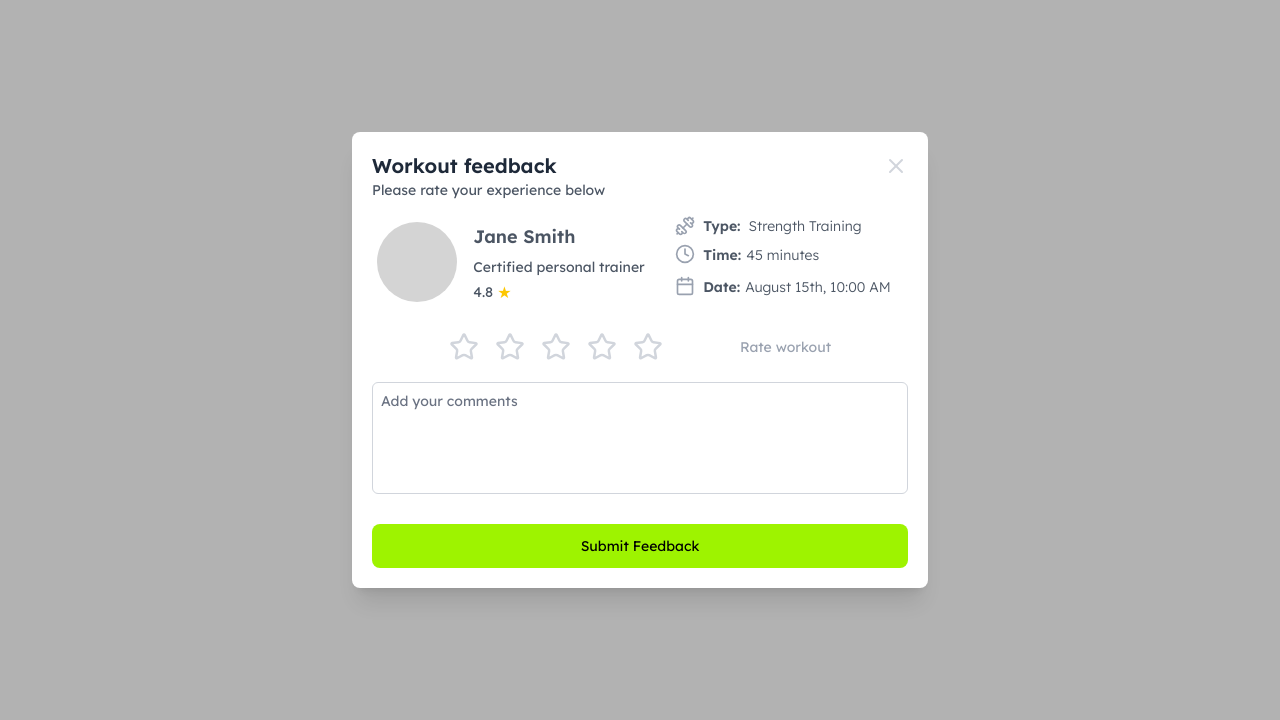
it: ClientFeedbackModal › updates rating when stars are clicked
Expected: the text "Rate workout" is shown, [740, 337, 831, 357]
Click on the 4-star rating (full star)
Click the element named "Rate 4 stars".
click(610, 347)  # box [602, 332, 617, 362]
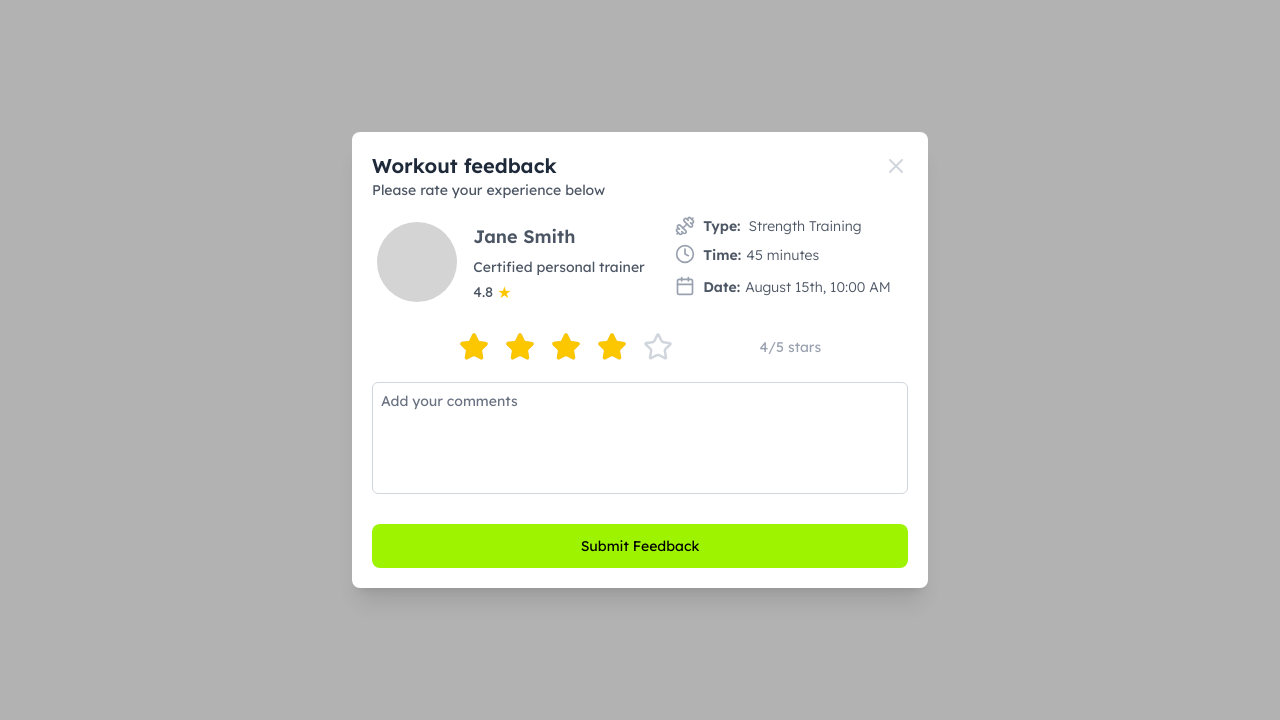
Result: the text "4/5 stars" is shown at [760, 337, 821, 357]
Click on the 2.5-star rating (half star)
Click the element named "Rate 2.5 stars".
click(558, 347)  # box [551, 332, 566, 362]
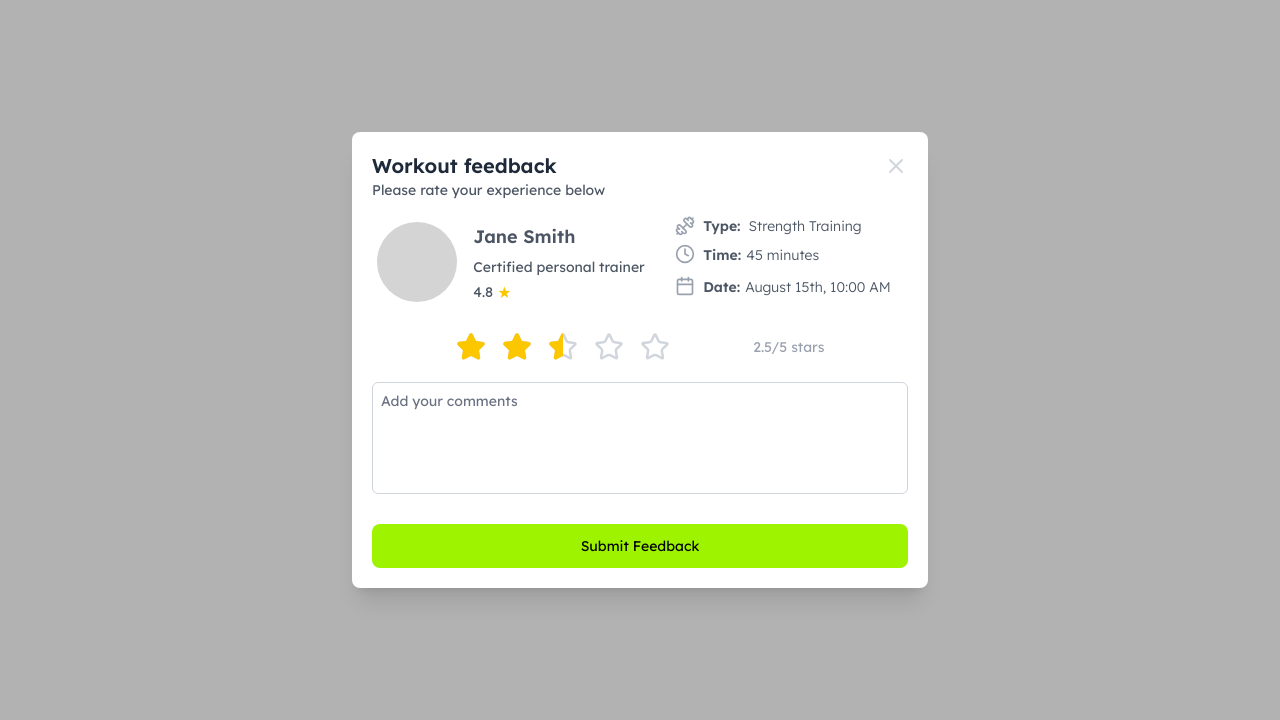
Result: the text "2.5/5 stars" is shown at [753, 337, 824, 357]
